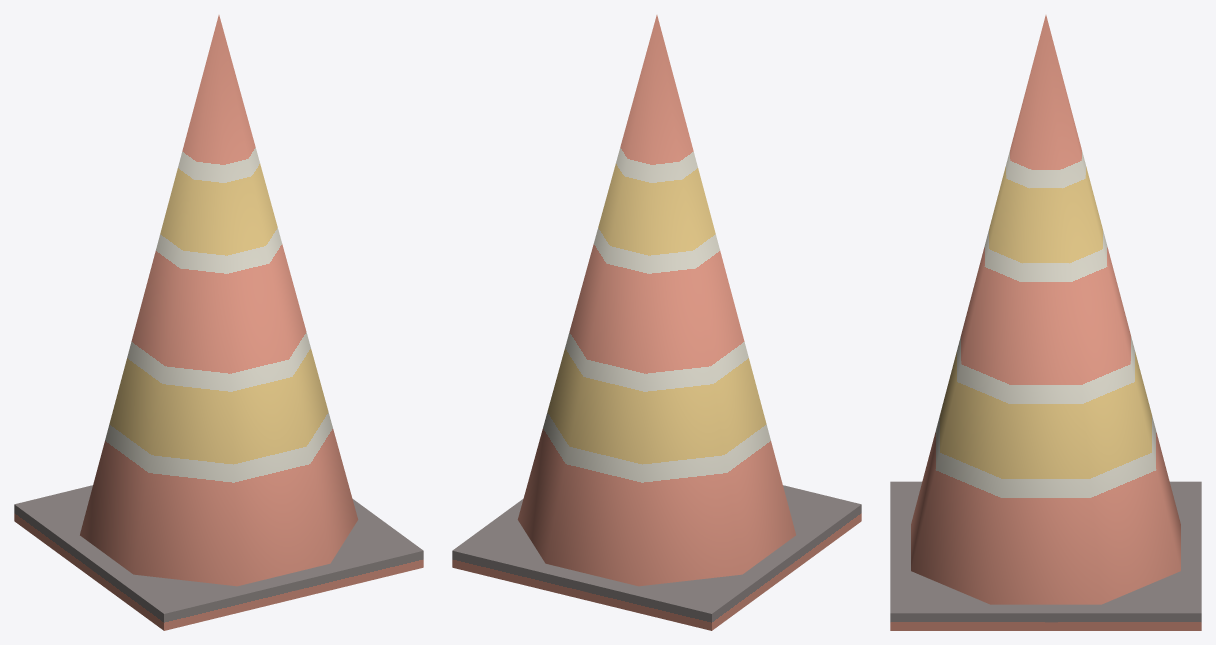
Rendered from 0370_Wild_Pylon.glb.
3 views of the same model, side by side, from view 1: azimuth 30°, elevation 25°; view 2: azimuth 150°, elevation 25°; view 3: azimuth 270°, elevation 25° (orthographic). The views are drawn at different scales.
Parts seen in each view (by area): view 1: part_0; view 2: part_0; view 3: part_0.
Boxes of the visible parts, left/top/right/bottom form: part_0: left=14, top=15, right=423, bottom=630; part_0: left=452, top=15, right=861, bottom=630; part_0: left=890, top=15, right=1201, bottom=630.
Bounding box in the file's own units: 3.07 × 6 × 3.07.
Materials: 1 (1 with a texture image).
